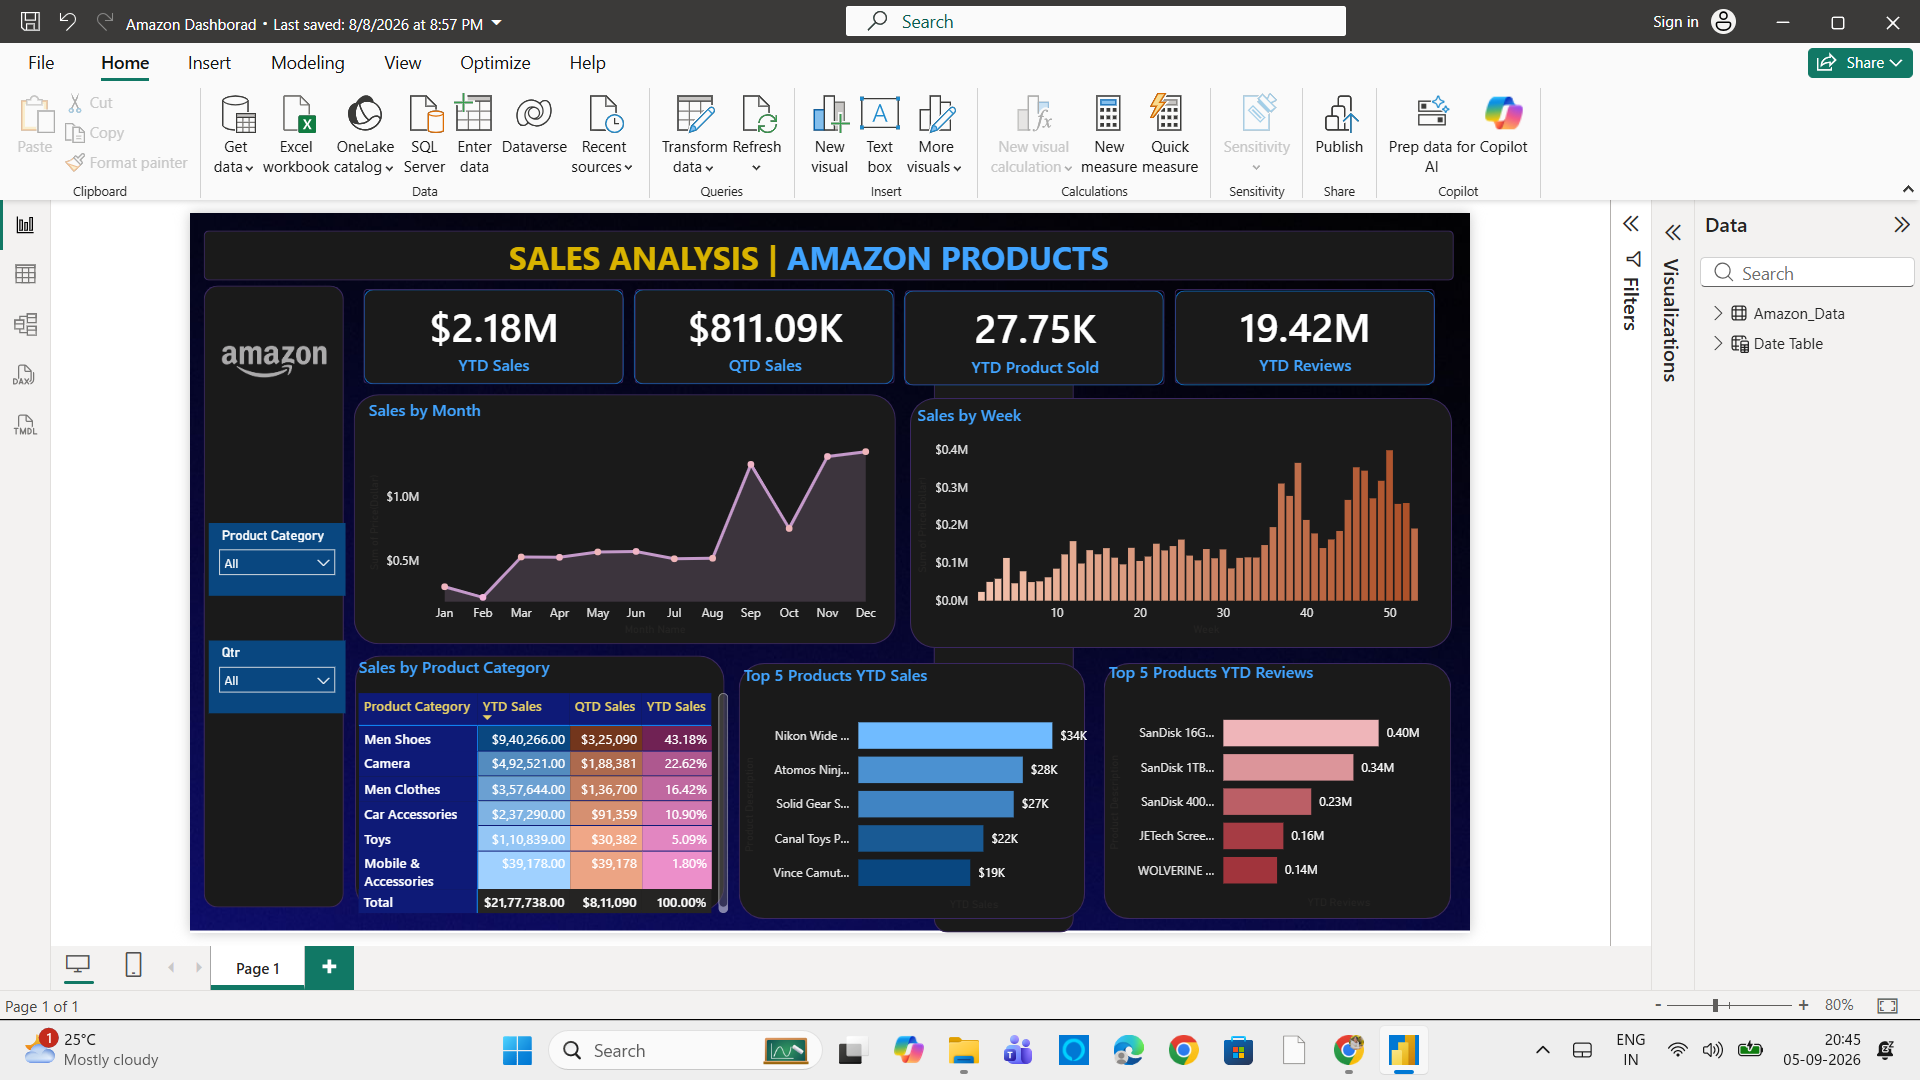

This screenshot's page, from the dashboard's own definition file:
{"tool":"powerbi","page":{"name":"Page 1","canvas":[1280,720],"ordinal":0},"visuals":[{"type":"shape","box":[14.5,16.9,1250,50],"z":0},{"type":"textbox","box":[313.7,16.9,616.5,59.1],"z":1000},{"type":"shape","box":[743.9,97.6,140,622],"z":2000},{"type":"shape","box":[173.7,76,260,95],"z":3000},{"type":"cardVisual","fields":{"Data":["Amazon_Data.YTD Sales"]},"box":[154.4,57.9,296.8,131.5],"z":4000},{"type":"shape","box":[444,76,260,95],"z":5000},{"type":"shape","box":[714.2,77.2,260,95],"z":6000},{"type":"shape","box":[984.5,77.2,260,95],"z":7000},{"type":"cardVisual","fields":{"Data":["Amazon_Data.QTD Sales"]},"box":[425.9,57.9,296.8,131.5],"z":8000},{"type":"cardVisual","fields":{"Data":["Amazon_Data.YTD Product Sold"]},"box":[696.1,59.1,296.8,131.5],"z":9000},{"type":"cardVisual","fields":{"Data":["Amazon_Data.YTD Reviews"]},"box":[966.4,57.9,296.8,131.5],"z":10000},{"type":"shape","box":[164.1,181,542,250],"z":11000},{"type":"areaChart","title":"Sales by Month","fields":{"Category":["Date Table.Month Name"],"Y":["Sum(Amazon_Data.Price(Dollar))"]},"box":[173.8,185,522.5,242.5],"z":12000},{"type":"shape","box":[720,185,542,250],"z":13000},{"type":"clusteredColumnChart","title":"Sales by Week","fields":{"Y":["Sum(Amazon_Data.Price(Dollar))"],"Category":["Date Table.Week"]},"box":[722.5,190,531.2,237.5],"z":14000},{"type":"shape","box":[164.6,442.7,369.5,256.1],"z":15000},{"type":"pivotTable","title":"Sales by Product Category","fields":{"Rows":["Amazon_Data.Product Category"],"Values":["Amazon_Data.YTD Sales1","Amazon_Data.QTD Sales","Amazon_Data.YTD Sales"]},"box":[164,443,379.1,262.8],"z":16000},{"type":"shape","box":[548.8,450,346.3,256.1],"z":17000},{"type":"shape","box":[913.4,450,347.6,256.1],"z":18000},{"type":"clusteredBarChart","title":"Top 5 Products YTD Sales","fields":{"Category":["Amazon_Data.Product Description"],"Y":["Amazon_Data.YTD Sales"]},"box":[548.8,450,356.1,252.4],"z":19000},{"type":"clusteredBarChart","title":"Top 5 Products YTD Reviews","fields":{"Category":["Amazon_Data.Product Description"],"Y":["Amazon_Data.YTD Reviews"]},"box":[913.4,447.6,356.1,252.4],"z":20000},{"type":"shape","box":[14.6,78,140,622],"z":21001},{"type":"slicer","fields":{"Values":["Amazon_Data.Product Category"]},"box":[18.3,309.8,136.6,73.2],"z":21002},{"type":"slicer","fields":{"Values":["Date Table.Qtr"]},"box":[18.3,428,136.6,73.2],"z":21003},{"type":"image","box":[14,98.8,140.7,91.9],"z":21004}]}

Visuals, with their boxes on the page's 1280x720 design canvas (x1, y1, x2, y2). These are canvas units, not pixel positions in the 1920x1080 screenshot, which may show the page scaled, cropped or inside an application window:
shape: [14, 17, 1264, 67]
textbox: [314, 17, 930, 76]
shape: [744, 98, 884, 720]
shape: [174, 76, 434, 171]
cardVisual - Amazon_Data.YTD Sales: [154, 58, 451, 189]
shape: [444, 76, 704, 171]
shape: [714, 77, 974, 172]
shape: [984, 77, 1244, 172]
cardVisual - Amazon_Data.QTD Sales: [426, 58, 723, 189]
cardVisual - Amazon_Data.YTD Product Sold: [696, 59, 993, 191]
cardVisual - Amazon_Data.YTD Reviews: [966, 58, 1263, 189]
shape: [164, 181, 706, 431]
"Sales by Month" areaChart: [174, 185, 696, 428]
shape: [720, 185, 1262, 435]
"Sales by Week" clusteredColumnChart: [722, 190, 1254, 428]
shape: [165, 443, 534, 699]
"Sales by Product Category" pivotTable: [164, 443, 543, 706]
shape: [549, 450, 895, 706]
shape: [913, 450, 1261, 706]
"Top 5 Products YTD Sales" clusteredBarChart: [549, 450, 905, 702]
"Top 5 Products YTD Reviews" clusteredBarChart: [913, 448, 1270, 700]
shape: [15, 78, 155, 700]
slicer - Amazon_Data.Product Category: [18, 310, 155, 383]
slicer - Date Table.Qtr: [18, 428, 155, 501]
image: [14, 99, 155, 191]
